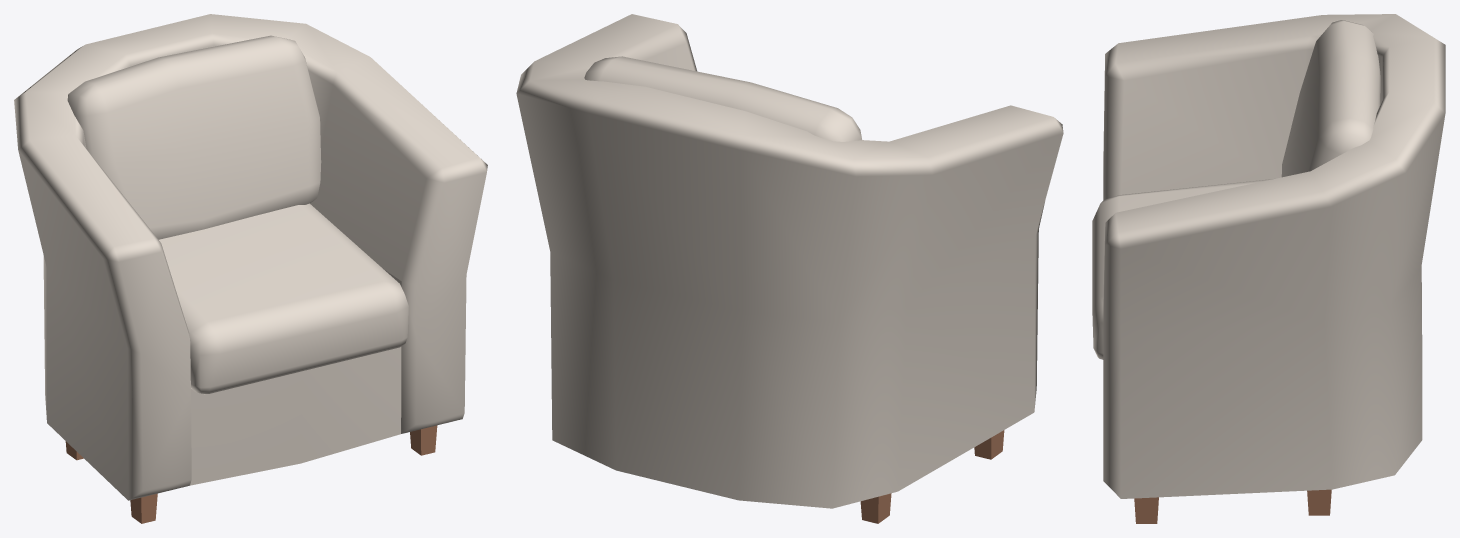
File: SM_Prop_Couch_07.obj
3 views of the same model, side by side, from view 1: azimuth 30°, elevation 25°; view 2: azimuth 150°, elevation 25°; view 3: azimuth 270°, elevation 25° (orthographic). The views are drawn at different scales.
Parts seen in each view (by area): view 1: SM_Prop_Couch_07_Mat_SwatchOverlay_PolygonTown_01_Inst; view 2: SM_Prop_Couch_07_Mat_SwatchOverlay_PolygonTown_01_Inst; view 3: SM_Prop_Couch_07_Mat_SwatchOverlay_PolygonTown_01_Inst.
Part boxes in pixels (x1=…): SM_Prop_Couch_07_Mat_SwatchOverlay_PolygonTown_01_Inst: x1=14, y1=14, x2=487, y2=523; SM_Prop_Couch_07_Mat_SwatchOverlay_PolygonTown_01_Inst: x1=516, y1=14, x2=1063, y2=523; SM_Prop_Couch_07_Mat_SwatchOverlay_PolygonTown_01_Inst: x1=1092, y1=14, x2=1445, y2=523.
Bounding box in the file's own units: 1.1 × 0.9862 × 0.8254.
Materials: 1 (1 with a texture image).
